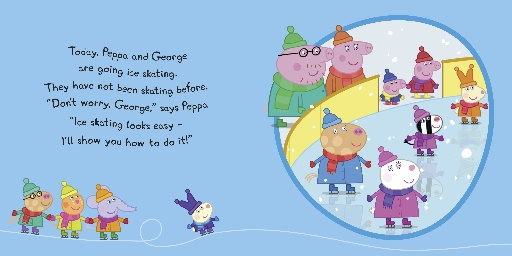Peppa: (406, 45, 443, 100)
